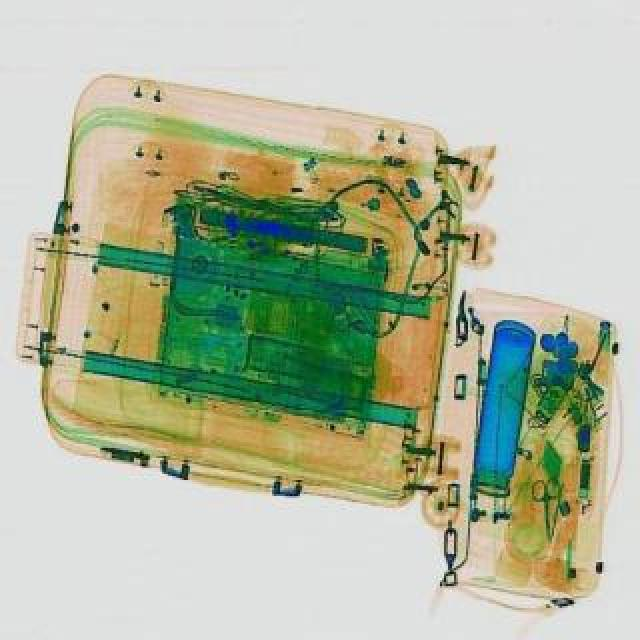pliers: (530, 476, 562, 540)
